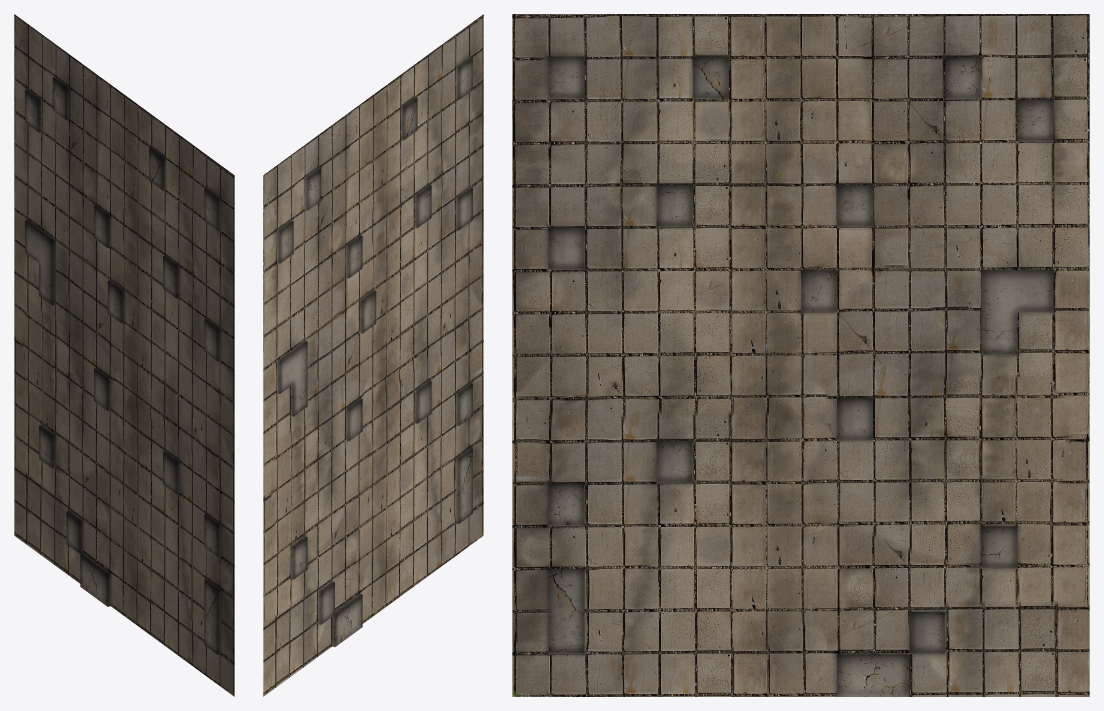
File: Tile wall 2.fbx
The picture shows the model from 3 angles, left to right: view 1: azimuth 30°, elevation 25°; view 2: azimuth 150°, elevation 25°; view 3: azimuth 270°, elevation 25°; orthographic projection. The views are drawn at different scales.
Parts seen in each view (by area): view 1: Plane_016_001; view 2: Plane_016_001; view 3: Plane_016_001.
Boxes of the visible parts, x1=… form: Plane_016_001: x1=14, y1=14, x2=234, y2=696; Plane_016_001: x1=263, y1=14, x2=483, y2=696; Plane_016_001: x1=512, y1=14, x2=1089, y2=696.
Size of the model in its own units: 0.0431 by 7.22 by 5.53.
